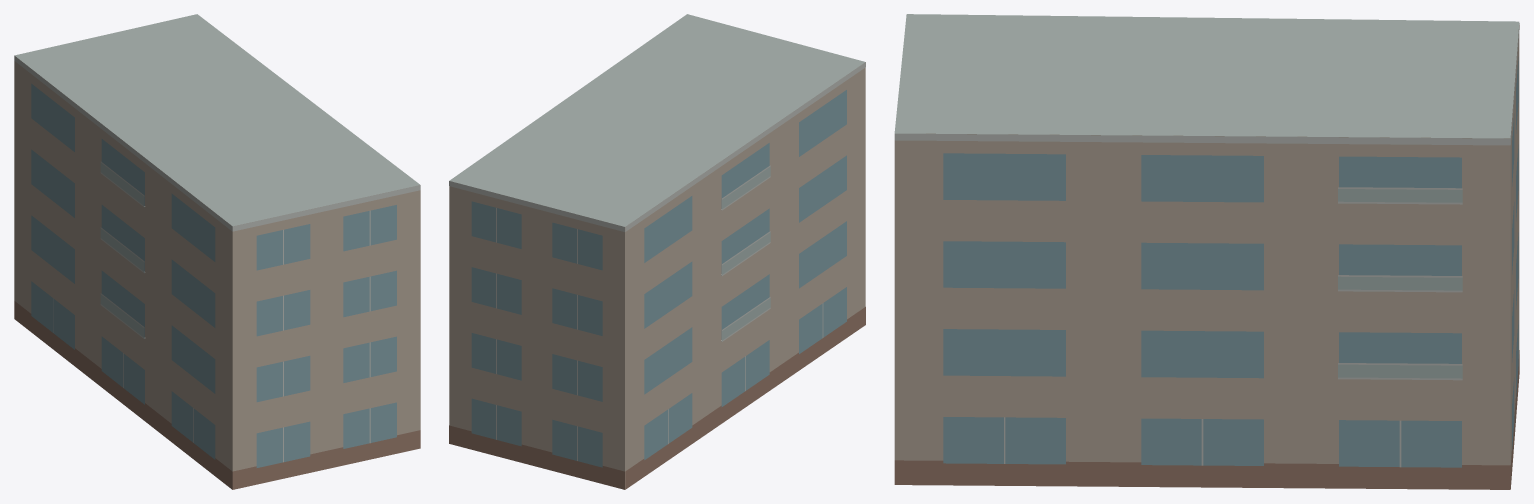
Rendered from residential-9842f0f0-aade-442f-9082-42e023e735cd.glb.
The picture shows the model from 3 angles, left to right: view 1: azimuth 30°, elevation 25°; view 2: azimuth 150°, elevation 25°; view 3: azimuth 270°, elevation 25°; orthographic projection. The views are drawn at different scales.
Parts seen in each view (by area): view 1: residential-9842f0f0-aade-442f-9082-42e023e735cd.tmp; view 2: residential-9842f0f0-aade-442f-9082-42e023e735cd.tmp; view 3: residential-9842f0f0-aade-442f-9082-42e023e735cd.tmp.
Part boxes in pixels (bbox=[...]): residential-9842f0f0-aade-442f-9082-42e023e735cd.tmp: bbox=[14, 14, 420, 489]; residential-9842f0f0-aade-442f-9082-42e023e735cd.tmp: bbox=[449, 14, 865, 489]; residential-9842f0f0-aade-442f-9082-42e023e735cd.tmp: bbox=[894, 14, 1519, 489].
Size of the model in its own units: 9.28 by 12.2 by 19.67.
